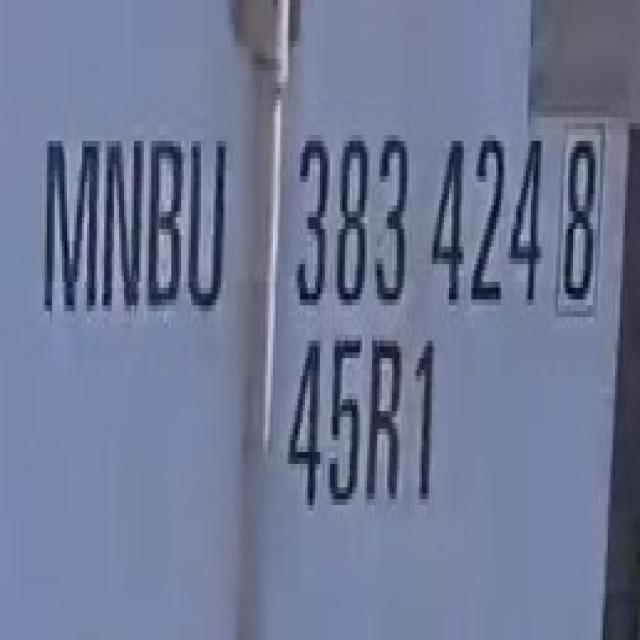dv: (548, 105, 612, 324)
owner: (37, 102, 230, 358)
serial: (289, 118, 546, 332)
size: (284, 324, 451, 542)
